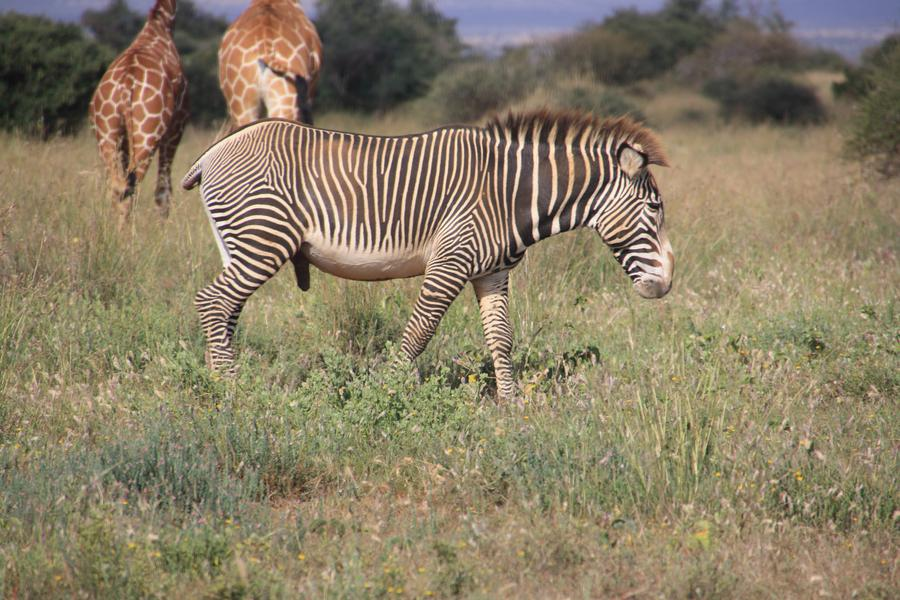zebra_grevys: (191, 125, 511, 265)
